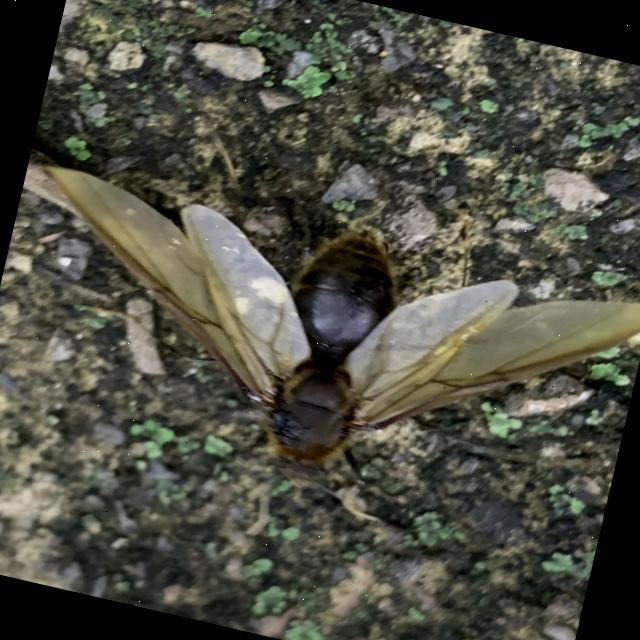Alive-Male-Alate: (0, 157, 640, 559)
